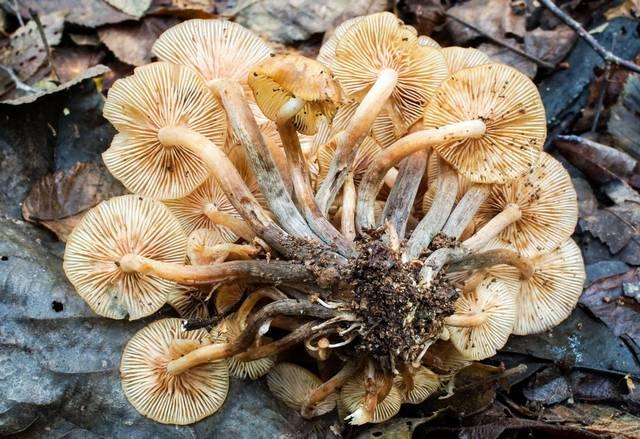Edible Mushroom: (61, 10, 587, 429)
